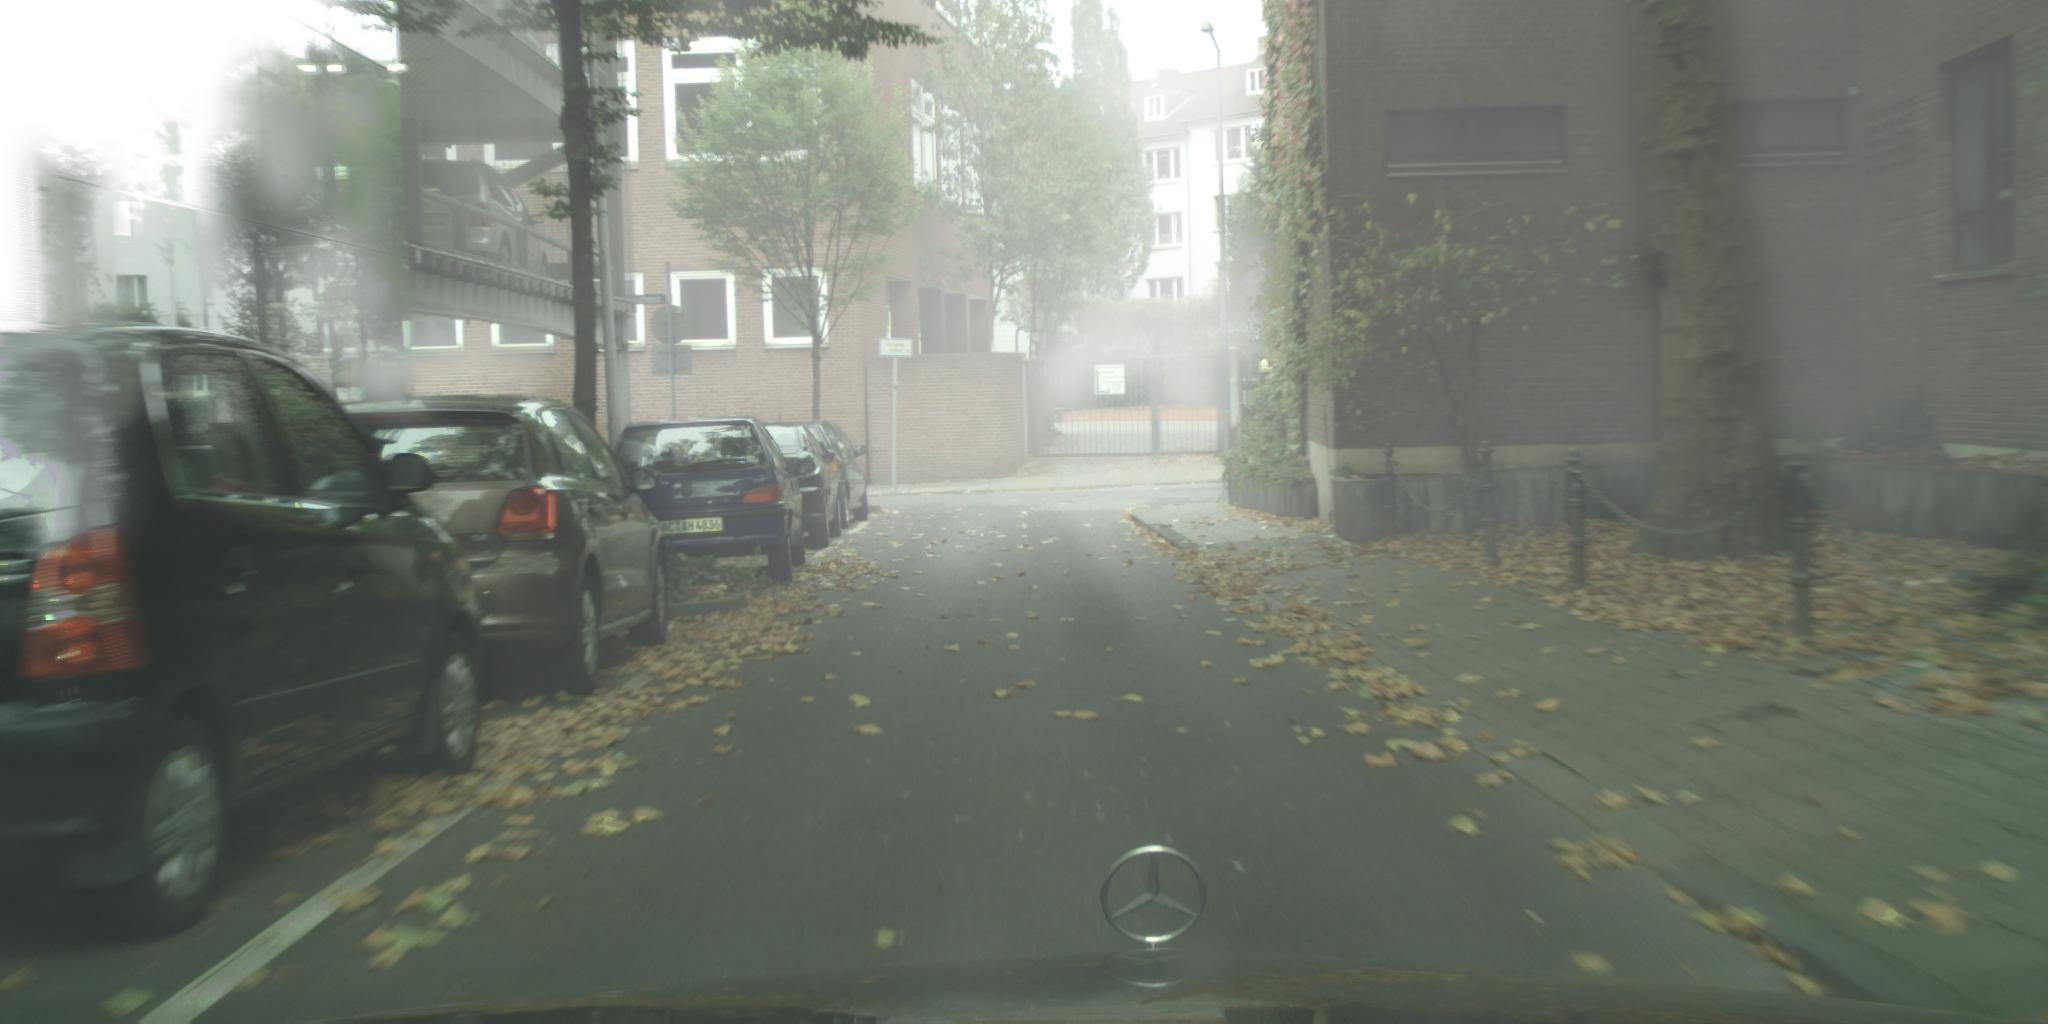car: (1, 317, 488, 946), (229, 394, 671, 697), (593, 415, 818, 585), (717, 423, 842, 550), (773, 421, 869, 530)
